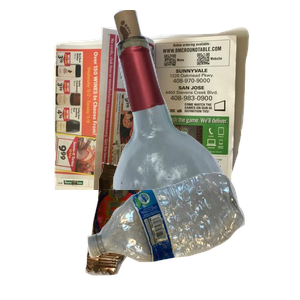glass: (89, 10, 300, 190)
paper: (51, 24, 291, 204)
plastic: (85, 170, 300, 300)
trash: (83, 160, 233, 300)
